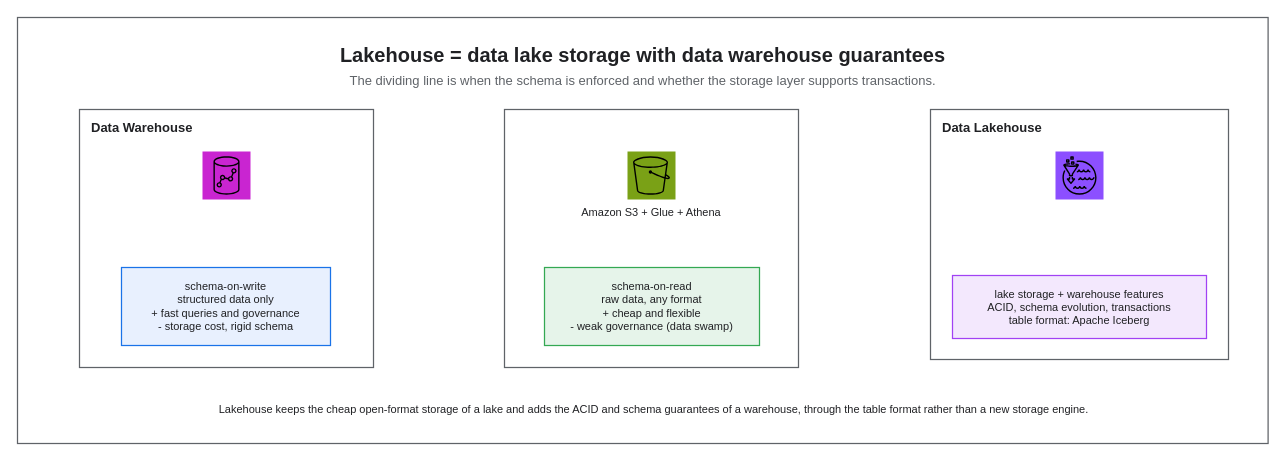
The diagram is 1286 pixels wide and 462 high, and some of its shapes have lost their labels. The shapes that lost their labels are listed below. From the top down, each one's box as (x1, y1, x2, y2) in pixels, then its label:
(202, 151, 250, 199): Amazon Redshift
(1055, 151, 1103, 199): S3 Tables + Athena + Lake Formation
(503, 108, 799, 368): Data Lake
